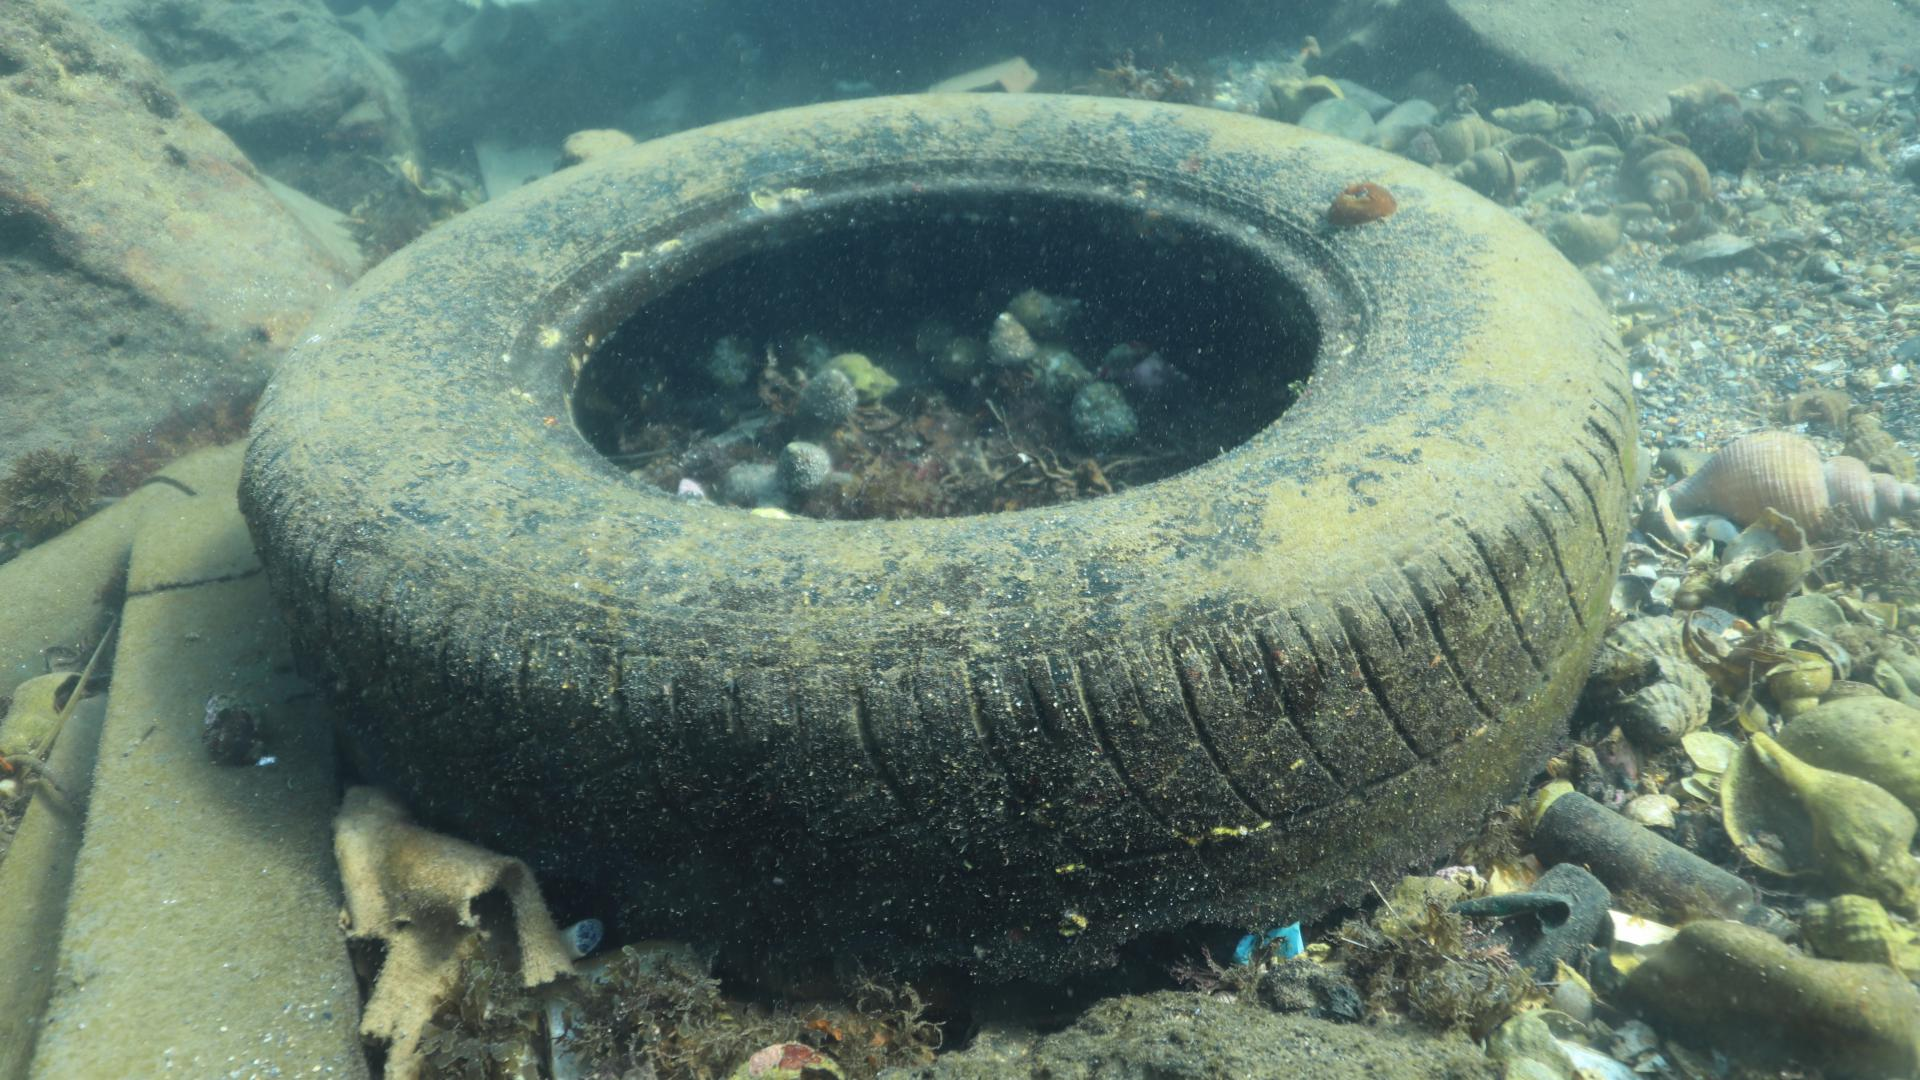tire: (237, 90, 1644, 1029)
wood: (21, 477, 386, 1080)
